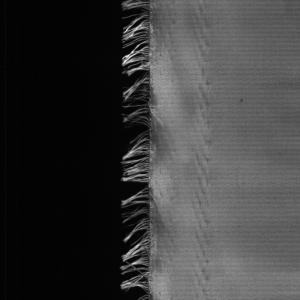Damage: (114, 1, 180, 300)
Wrinkle: (236, 1, 300, 300)
